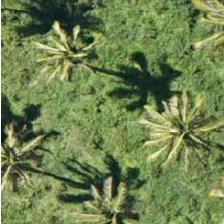coconut_tree: (21, 12, 111, 102), (141, 75, 223, 165), (72, 170, 162, 223)
